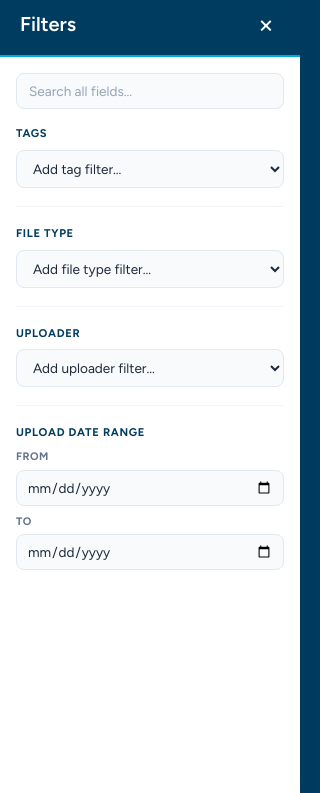
FilterPanel — tag filter › shows a chip for the active tag filter
Select "historical" in the dropdown showing "Add tag filter…" below "Tags": (150, 169) top-left (16, 150), bottom-right (284, 188)
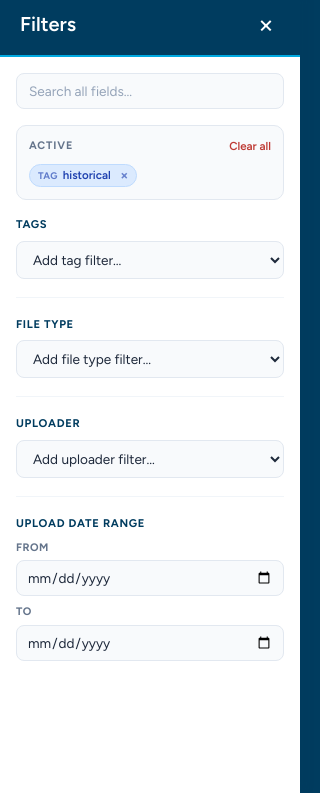
Expected: the text "historical" is shown, top-left (63, 170), bottom-right (111, 181)
Expected: the text "Tag" is shown, top-left (38, 171), bottom-right (58, 180)
